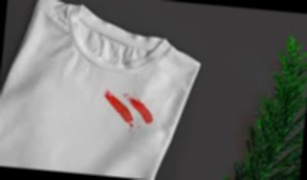lipstick: (129, 92, 158, 125), (106, 95, 139, 123), (102, 90, 123, 104)
